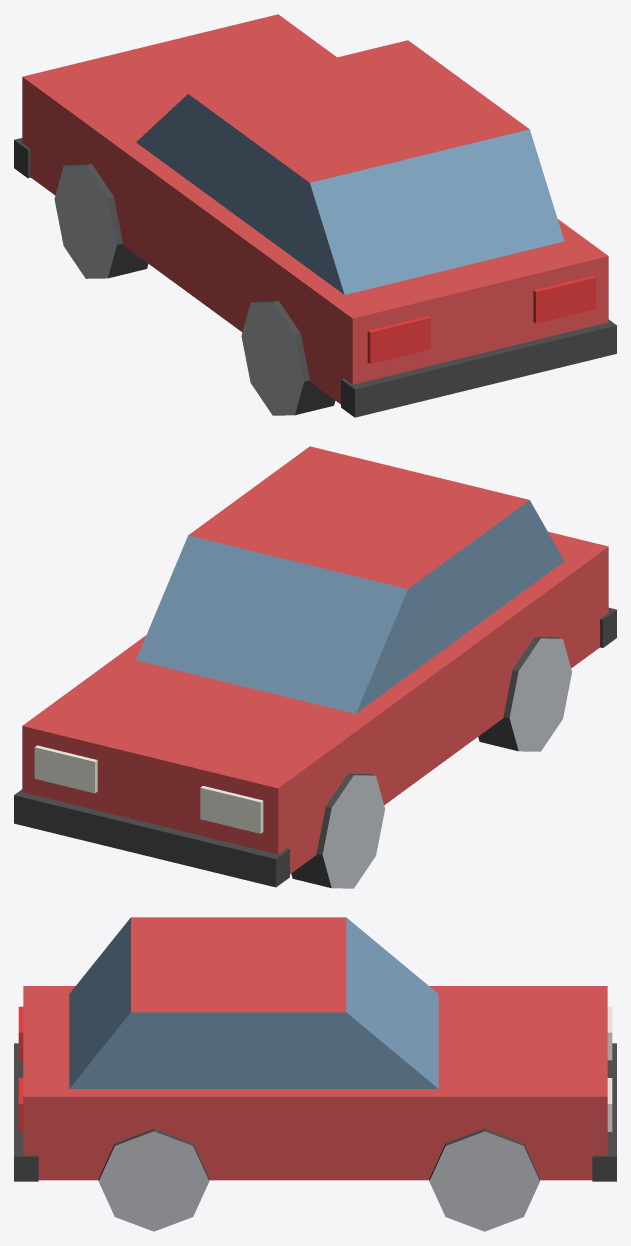
Rendered from car_hatch.glb.
3 views of the same model, one above another, from view 1: azimuth 30°, elevation 25°; view 2: azimuth 150°, elevation 25°; view 3: azimuth 270°, elevation 25° (orthographic). The views are drawn at different scales.
Parts seen in each view (by area): view 1: car_hatch; view 2: car_hatch; view 3: car_hatch.
Part boxes in pixels (left/top/right/bottom): car_hatch: left=14, top=14, right=616, bottom=417; car_hatch: left=14, top=446, right=616, bottom=888; car_hatch: left=14, top=917, right=616, bottom=1231.
Size of the model in its own units: 1.78 by 1.5 by 3.92.
